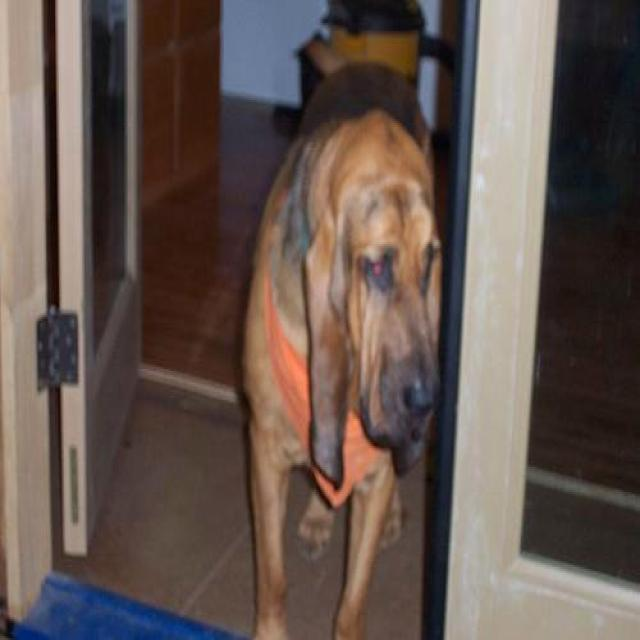bloodhound: (241, 56, 449, 638)
